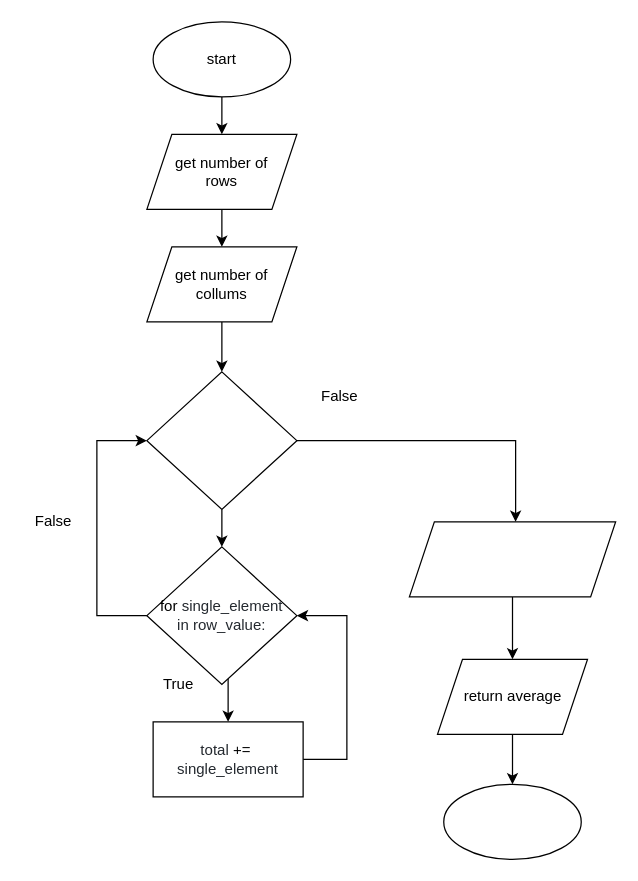
Some shapes in this 638 by 881 pixel diagram are drawn without their labels. The shapes that lost their labels are listed below. From the top down, each one's box as (x1, y1, x2, y2) in pixels, then its label:
(146, 371, 297, 509): for row_value in passed_in_2D_list
(408, 521, 616, 597): average = total / ( len ( passed_ in_2D_list ) * len ( row_value ))
(442, 783, 581, 859): stop
